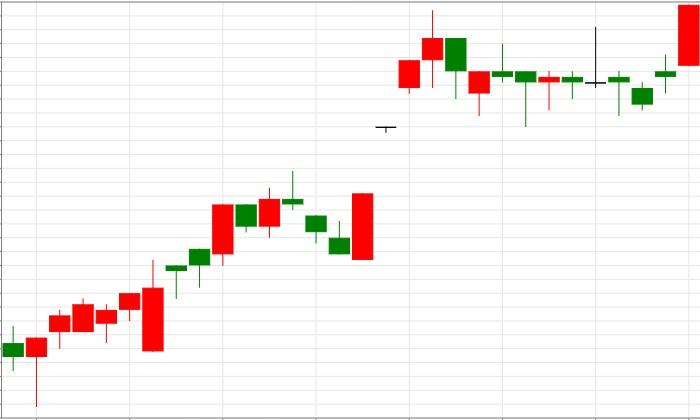bullish_engulfing_rise: (282, 170, 374, 260)
three_black_crows_fall: (141, 170, 351, 352)
